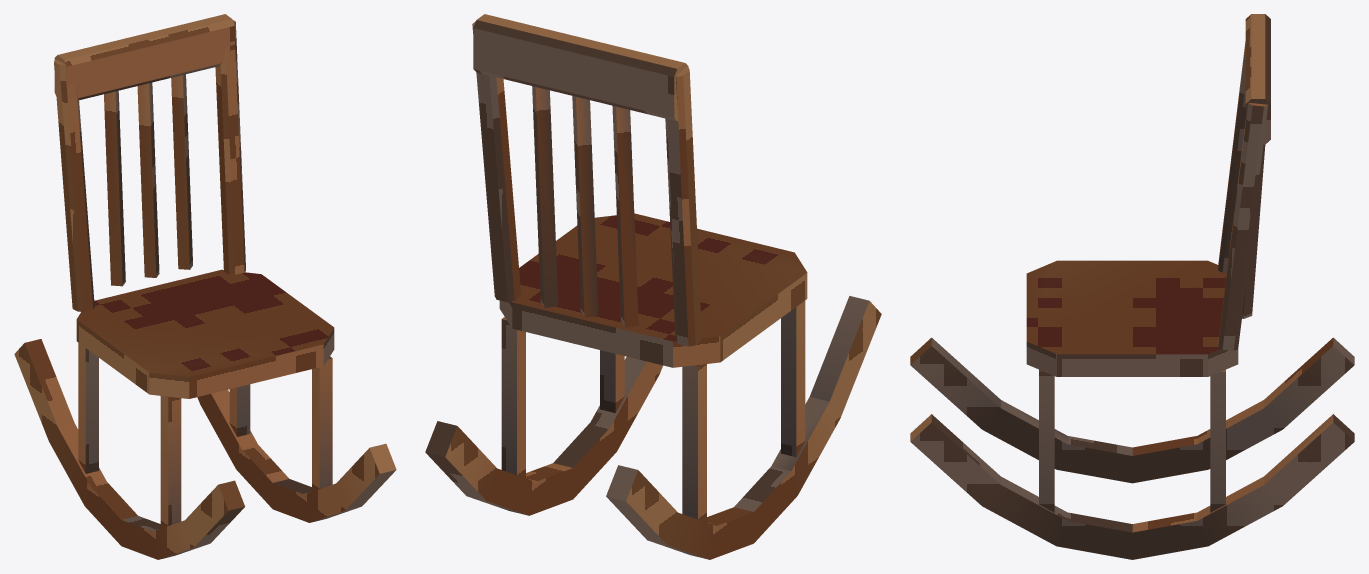
File: wprop.chair__rocking.glb
The picture shows the model from 3 angles, left to right: view 1: azimuth 30°, elevation 25°; view 2: azimuth 150°, elevation 25°; view 3: azimuth 270°, elevation 25°; orthographic projection. The views are drawn at different scales.
Parts seen in each view (by area): view 1: kit_seat, kit_runners, kit_back_posts, kit_spindles, kit_legs, kit_back; view 2: kit_runners, kit_seat, kit_back_posts, kit_legs, kit_back, kit_spindles; view 3: kit_runners, kit_seat, kit_back_posts, kit_legs, kit_back, kit_spindles.
Boxes of the visible parts, x1,y1,x2,y2 form: kit_seat: (76, 269, 334, 398); kit_runners: (14, 339, 396, 559); kit_back_posts: (54, 20, 245, 311); kit_spindles: (104, 74, 192, 286); kit_legs: (78, 343, 332, 528); kit_back: (54, 14, 234, 100); kit_runners: (425, 296, 881, 559); kit_seat: (499, 213, 807, 367); kit_back_posts: (472, 21, 701, 346); kit_legs: (501, 300, 805, 522); kit_back: (473, 14, 688, 121); kit_spindles: (532, 86, 638, 327); kit_runners: (910, 337, 1354, 559); kit_seat: (1026, 260, 1238, 376); kit_back_posts: (1218, 41, 1268, 350); kit_legs: (1039, 369, 1225, 512); kit_back: (1245, 14, 1270, 144); kit_spindles: (1242, 144, 1265, 318).
Size of the model in its own units: 0.44 by 1.01 by 0.8823.
2 materials, 2 textured.
